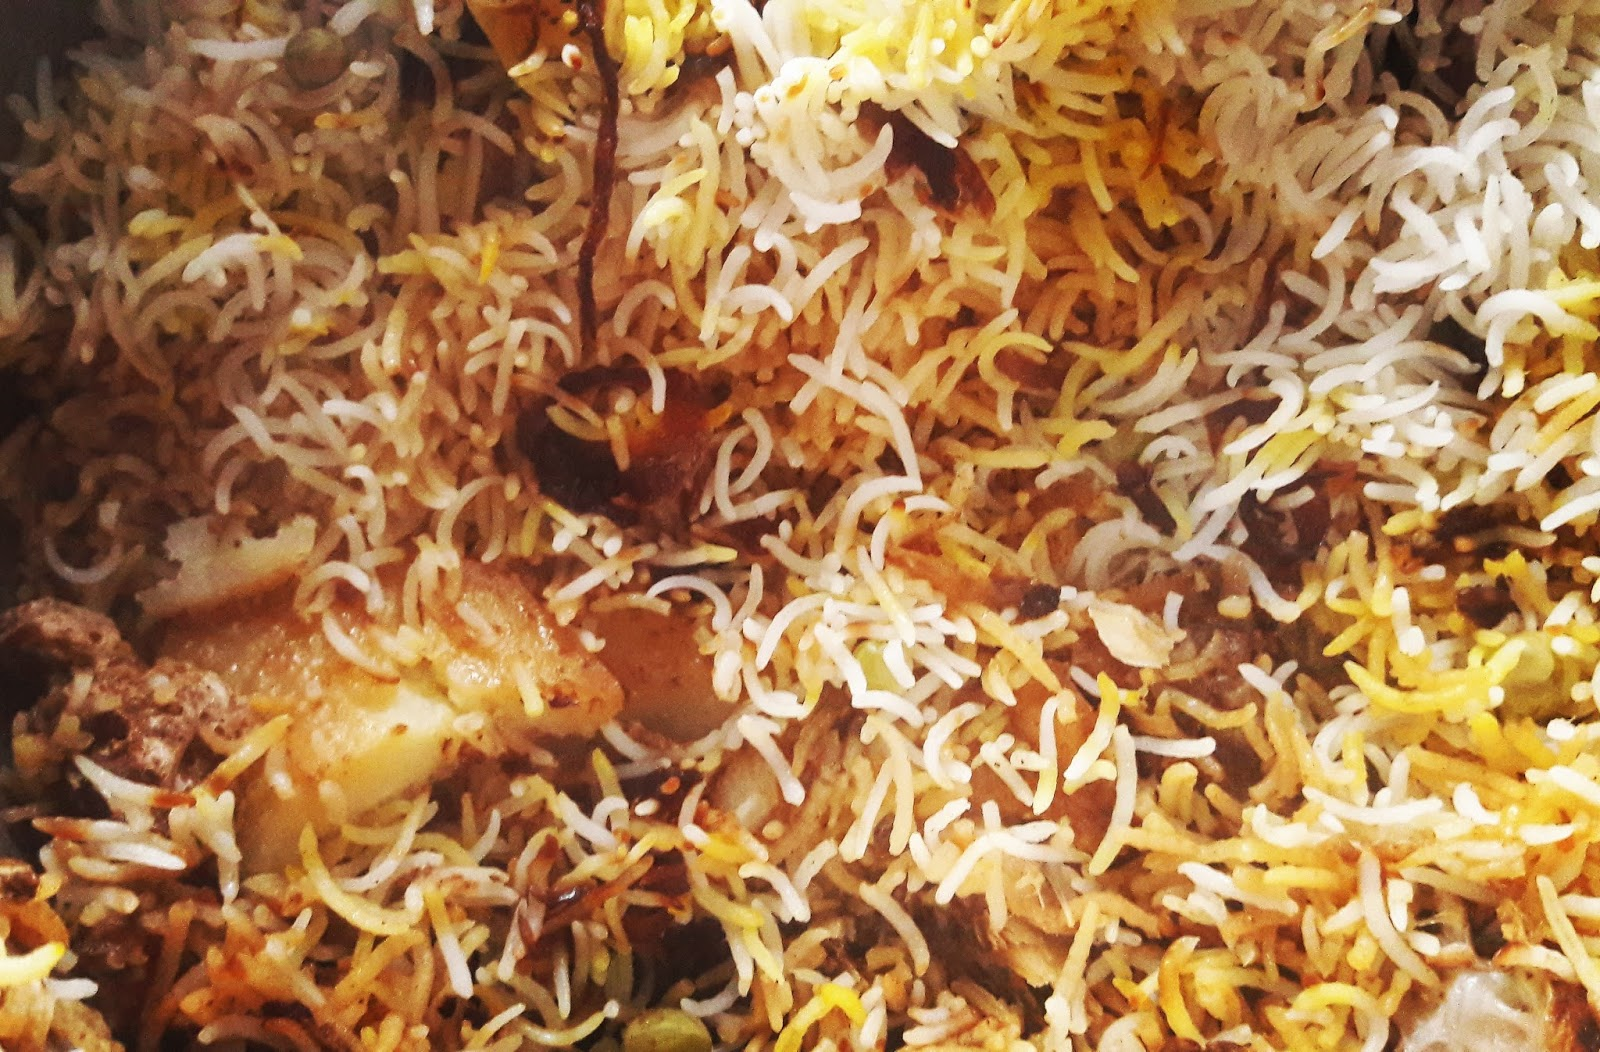Biryani: (46, 34, 1573, 1026)
